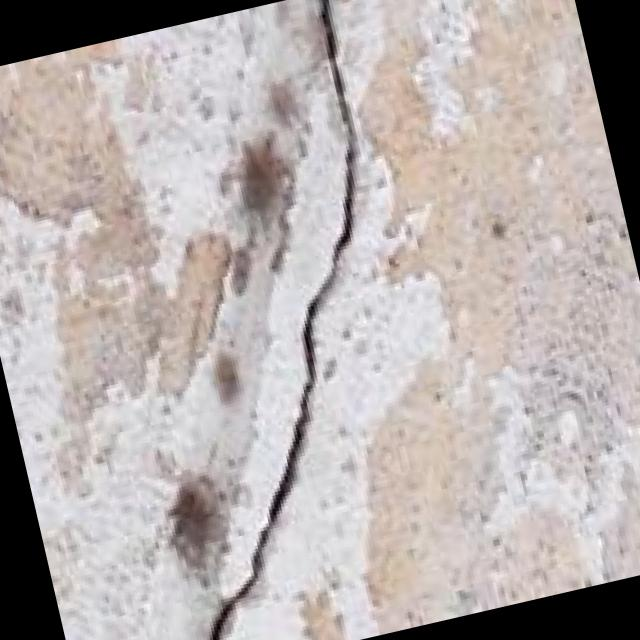crack: (45, 0, 538, 640)
